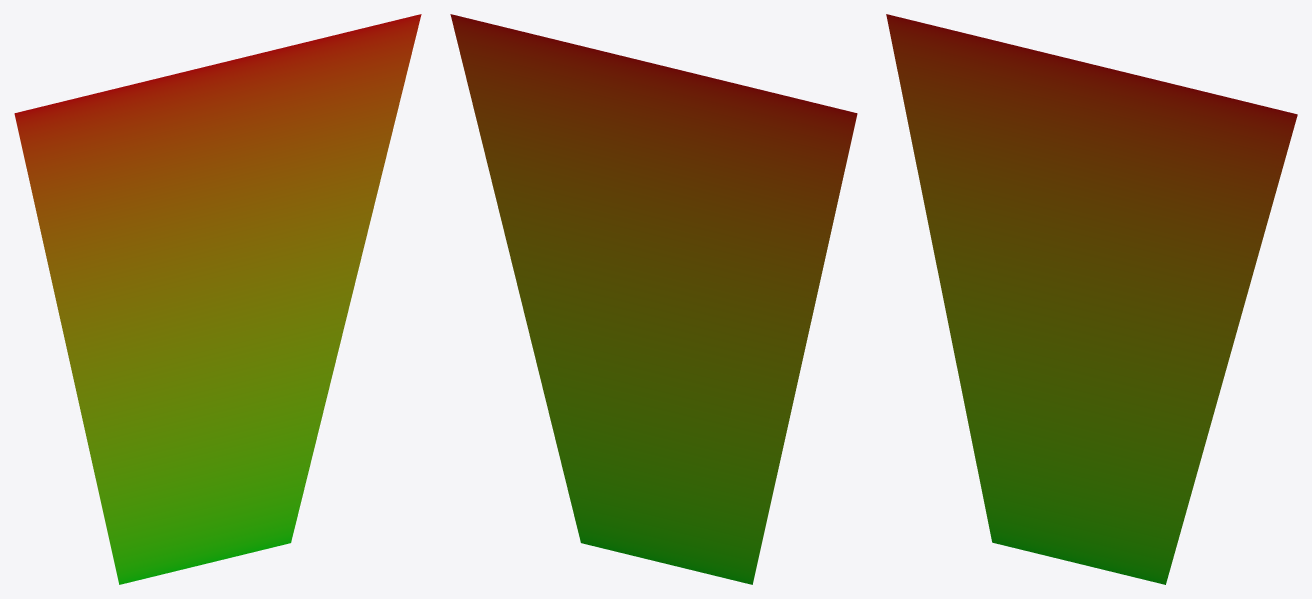
File: Var2_LOD3.fbx
3 views of the same model, side by side, from view 1: azimuth 30°, elevation 25°; view 2: azimuth 150°, elevation 25°; view 3: azimuth 330°, elevation 25° (orthographic).
Parts seen in each view (by area): view 1: _4d0f_Var2_LOD3; view 2: _4d0f_Var2_LOD3; view 3: _4d0f_Var2_LOD3.
Boxes of the visible parts, <box> form: _4d0f_Var2_LOD3: <box>14,14,421,584</box>; _4d0f_Var2_LOD3: <box>450,14,857,584</box>; _4d0f_Var2_LOD3: <box>886,14,1297,584</box>.
Bounding box in the file's own units: 61.14 × 71.35 × 8.82e-06.
